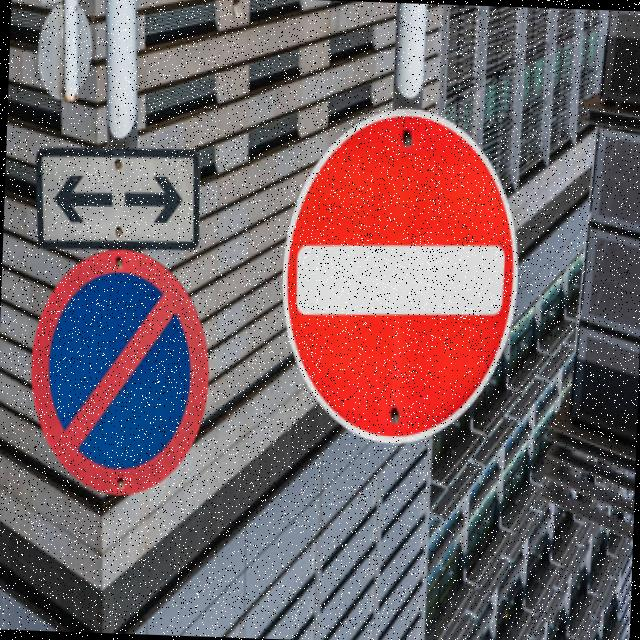do_not_enter: (271, 98, 538, 456)
